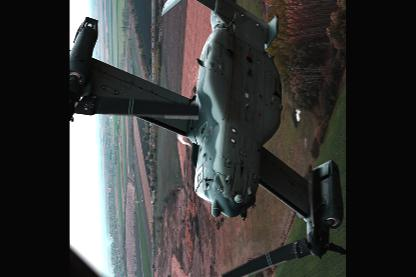Tornado: (69, 0, 346, 275)
